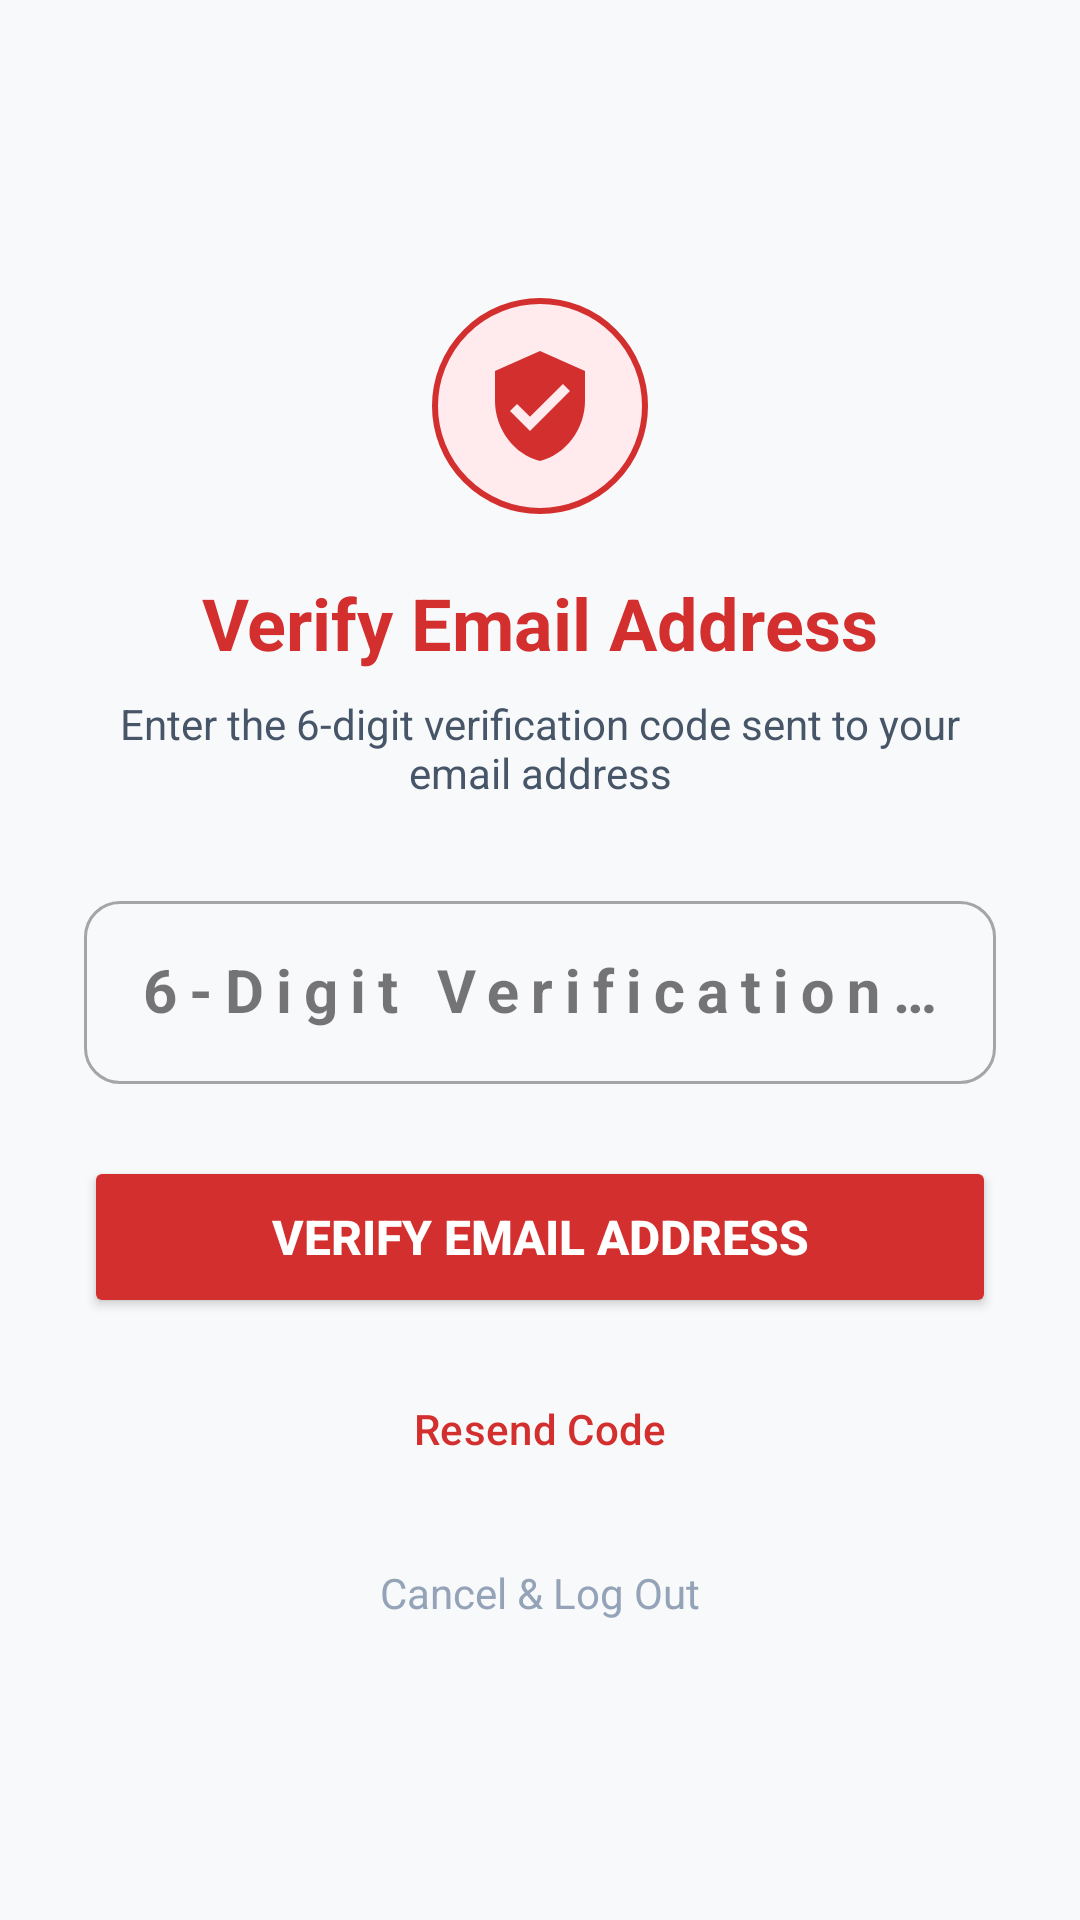

Icons on this 1080px×1920px Android screen, each with the point to tap as [x,y]:
Verification Icon: [540,406]
